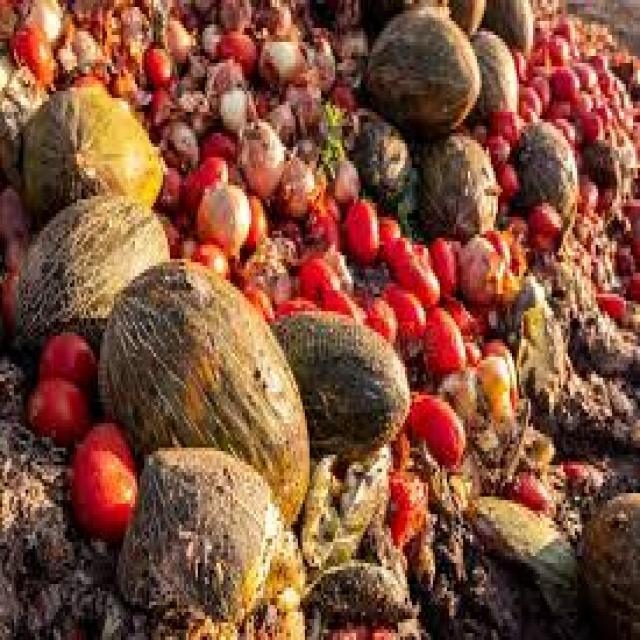Wet: (0, 3, 640, 640), (2, 178, 417, 640), (344, 3, 594, 274), (10, 41, 203, 212)
